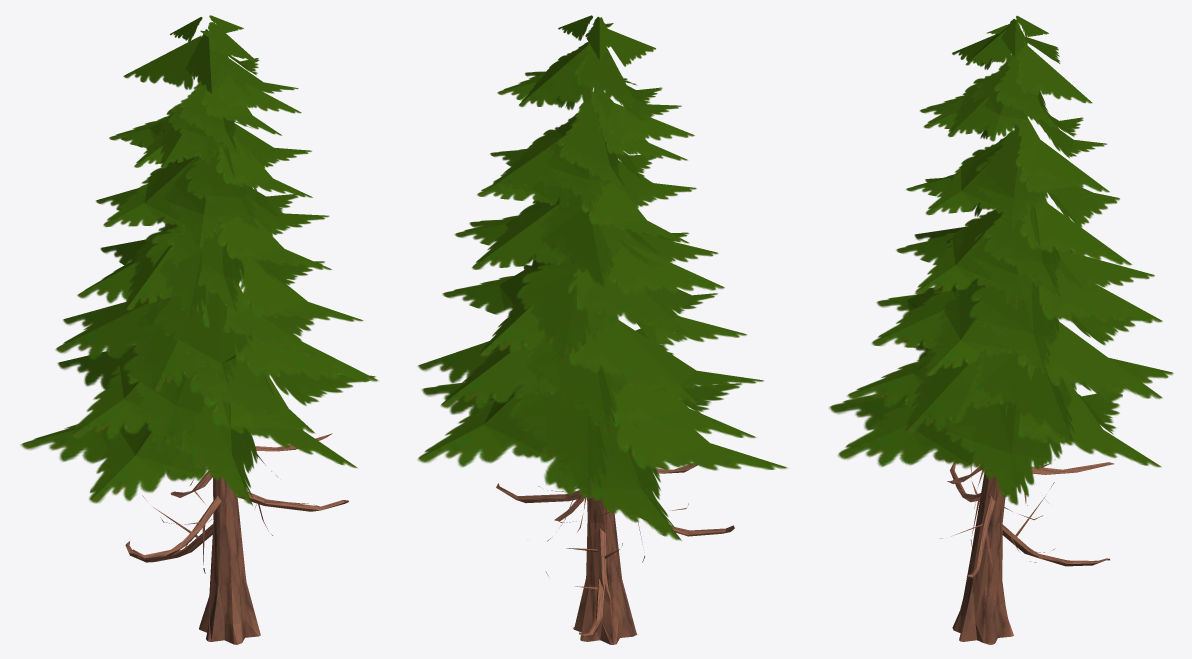
Rendered from prop-tree-pine.glb.
3 renders of one model, left to right at view 1: azimuth 30°, elevation 25°; view 2: azimuth 150°, elevation 25°; view 3: azimuth 270°, elevation 25°, orthographic. The views are drawn at different scales.
Visible parts, largest first — view 1: Pine_4; view 2: Pine_4; view 3: Pine_4.
Part boxes in pixels (x1,y1,x2,y2): Pine_4: (20, 15, 378, 644); Pine_4: (417, 15, 787, 644); Pine_4: (829, 16, 1173, 644).
Bounding box in the file's own units: 5.8 × 10.24 × 5.37.
Materials: 2 (2 with a texture image).
